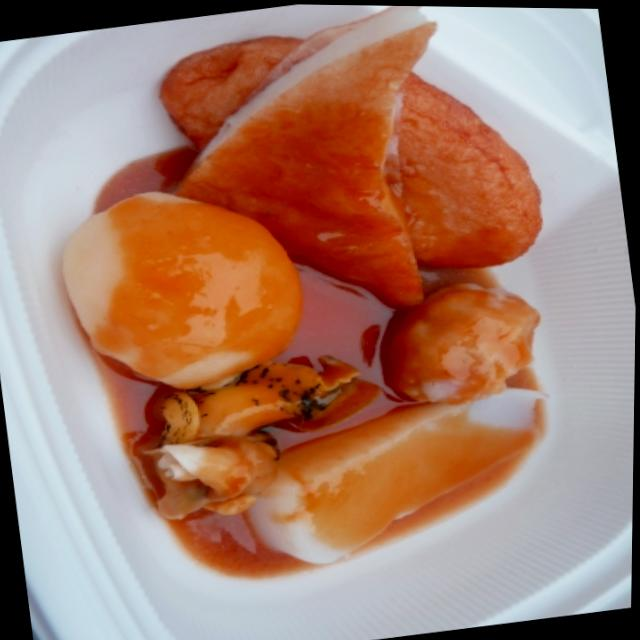汤锅炖物: (21, 0, 591, 602)
